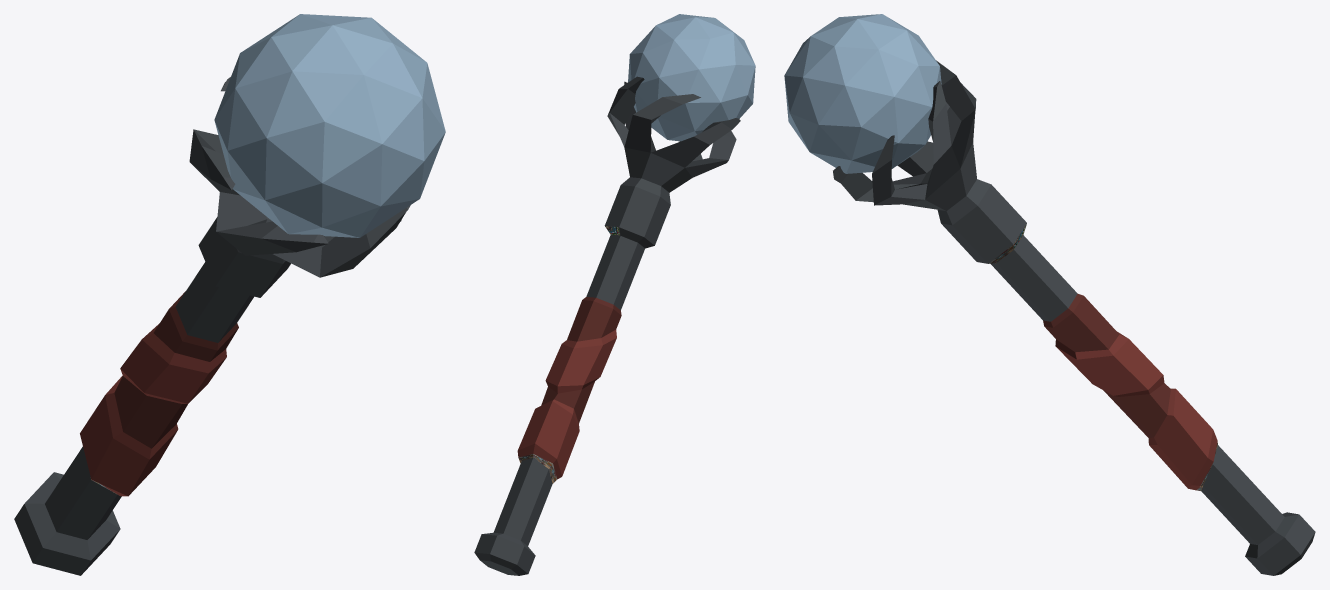
Rendered from fk-sceptre-08.glb.
3 views of the same model, side by side, from view 1: azimuth 30°, elevation 25°; view 2: azimuth 150°, elevation 25°; view 3: azimuth 270°, elevation 25° (orthographic). The views are drawn at different scales.
Visible parts, largest first — view 1: fk-sceptre-08; view 2: fk-sceptre-08; view 3: fk-sceptre-08.
Part boxes in pixels (x1=…): fk-sceptre-08: x1=14, y1=14, x2=445, y2=575; fk-sceptre-08: x1=474, y1=14, x2=755, y2=575; fk-sceptre-08: x1=784, y1=14, x2=1315, y2=575.
Bounding box in the file's own units: 0.1376 × 0.5027 × 0.4454.
1 material, 1 textured.
